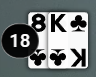8: (29, 12, 47, 33)
k: (48, 12, 68, 34)
